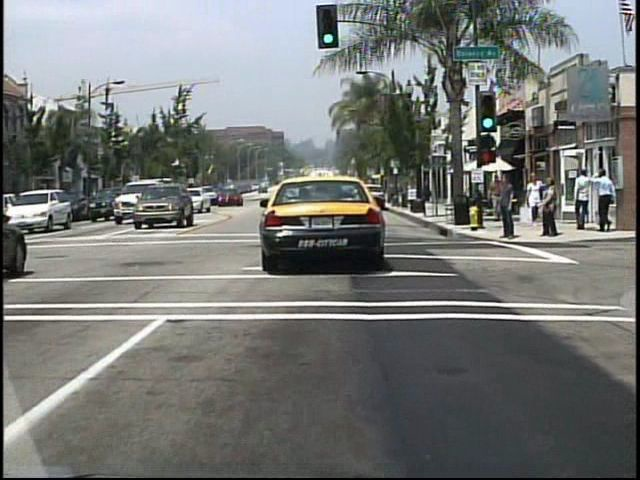person: (589, 168, 616, 233), (571, 166, 591, 232), (499, 175, 518, 241), (543, 177, 563, 238), (525, 173, 544, 229), (487, 174, 505, 225)
